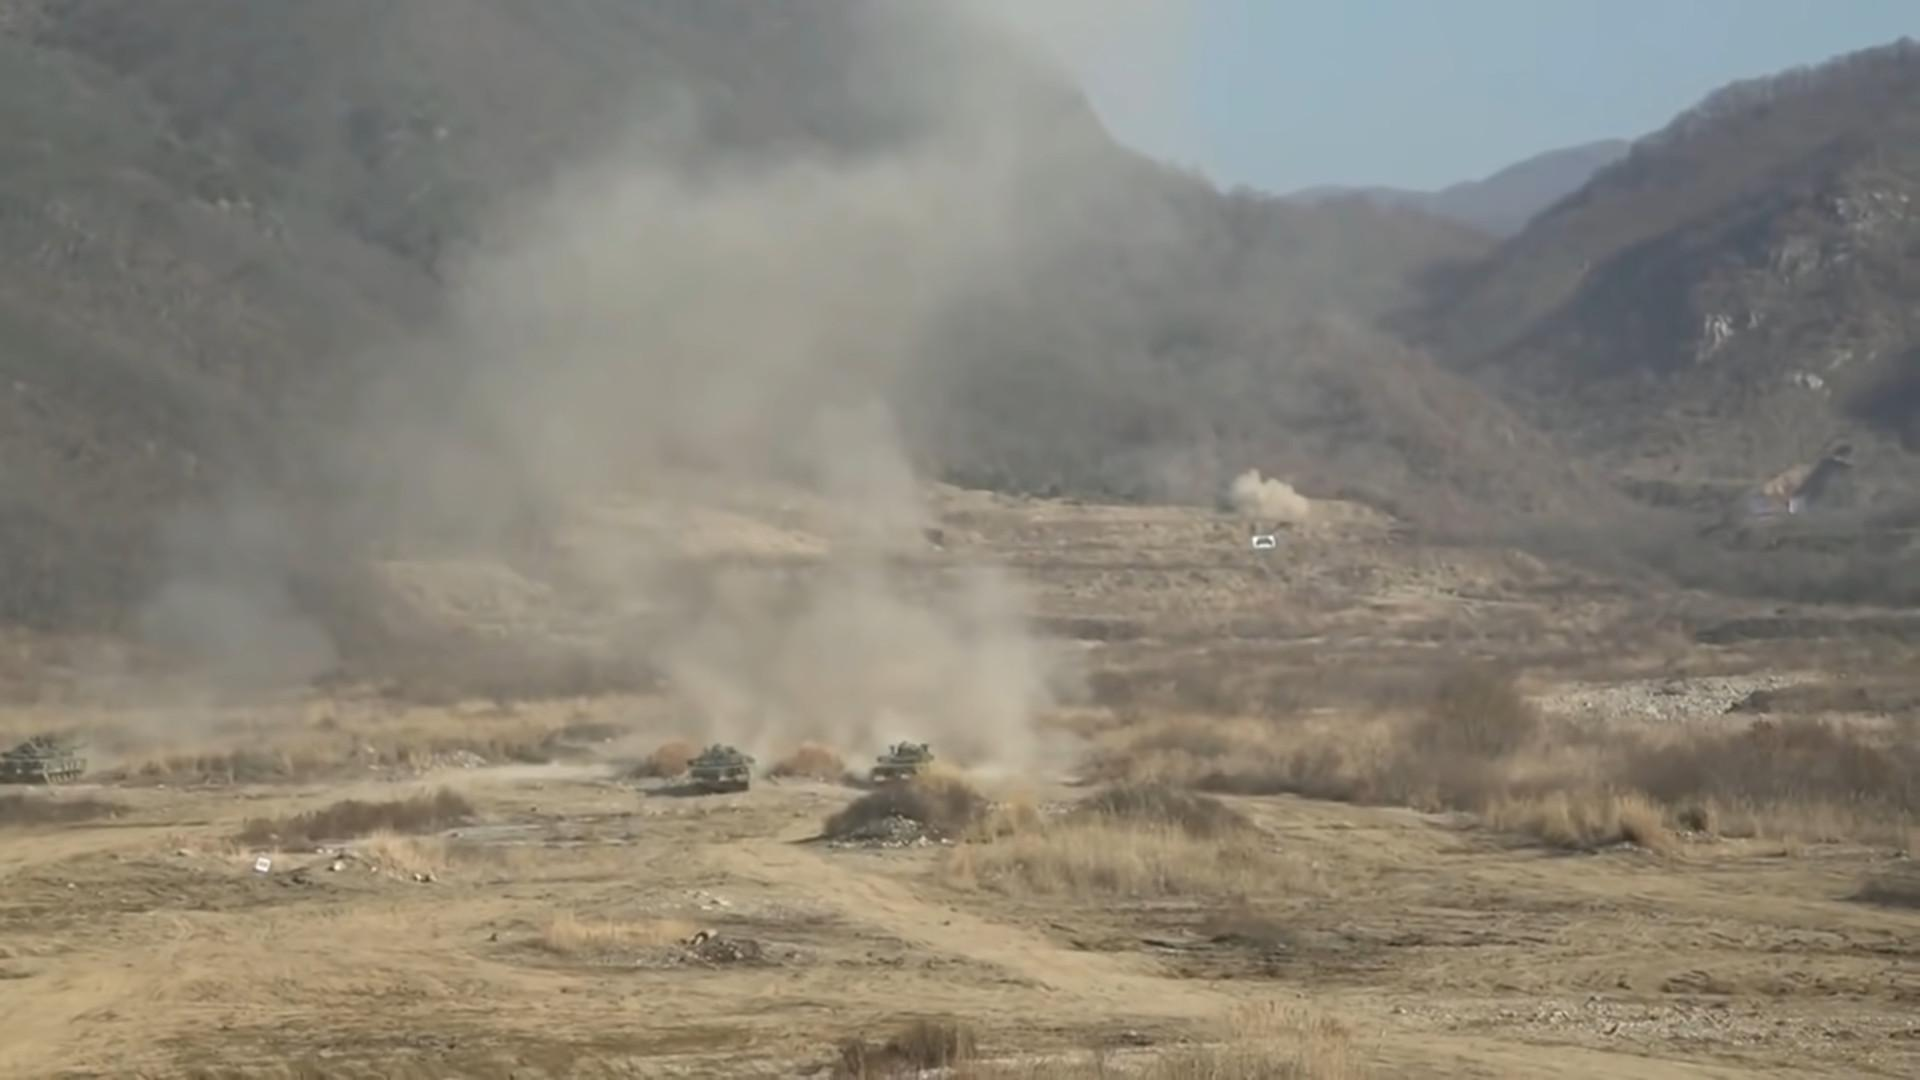tank: (686, 744, 756, 793), (870, 741, 934, 781)
